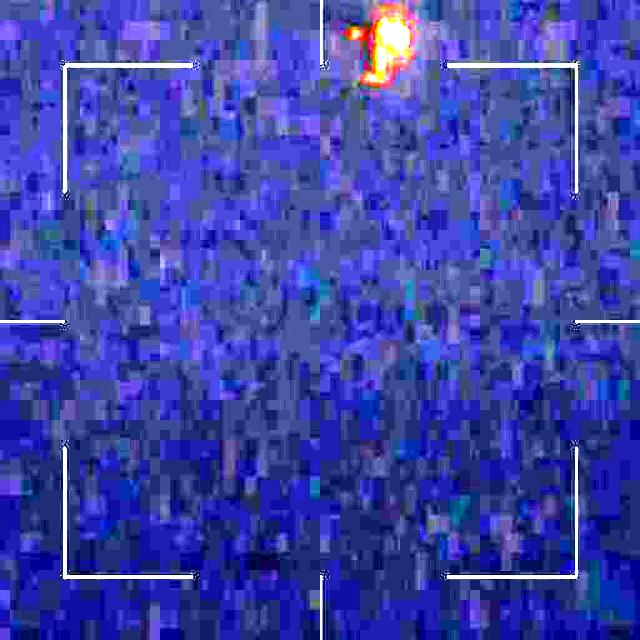bird: (334, 11, 408, 84)
